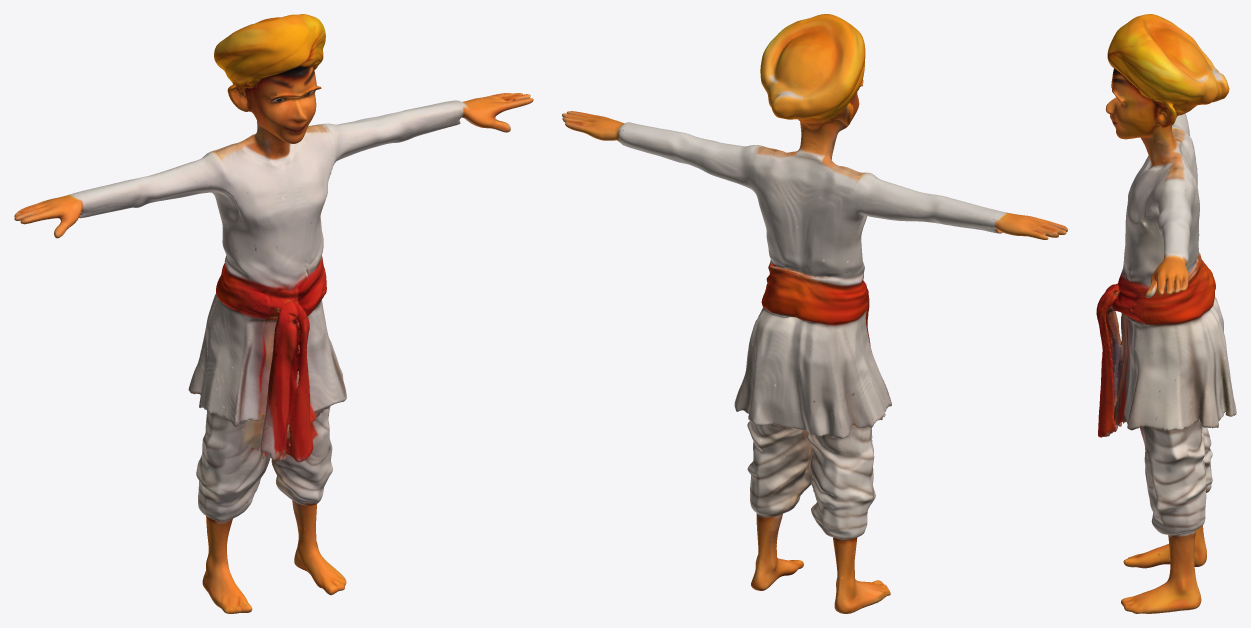
The model's file is coolindian.glb.
The picture shows the model from 3 angles, left to right: view 1: azimuth 30°, elevation 25°; view 2: azimuth 150°, elevation 25°; view 3: azimuth 270°, elevation 25°; orthographic projection. The views are drawn at different scales.
Size of the model in its own units: 1.86 by 2 by 0.4482.
1 material, 1 textured.
